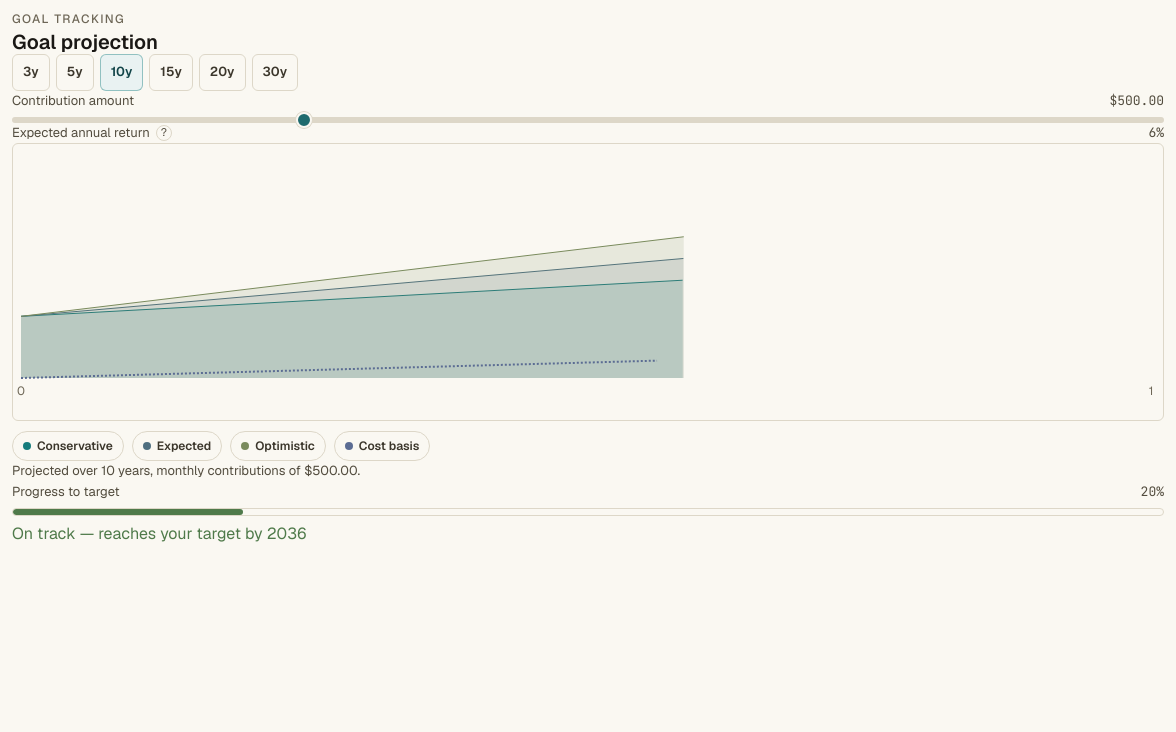
Test case: ProjectionPanel › hides the reset control until an override is active, then reverts on click
expect the picture named "Goal projection chart" is shown: met, box [12,143,1164,421]
expect the button "Reset to my profile values" is not shown: met
Step 1. Click the button "5y" → click(75, 72), box [56,54,94,90]
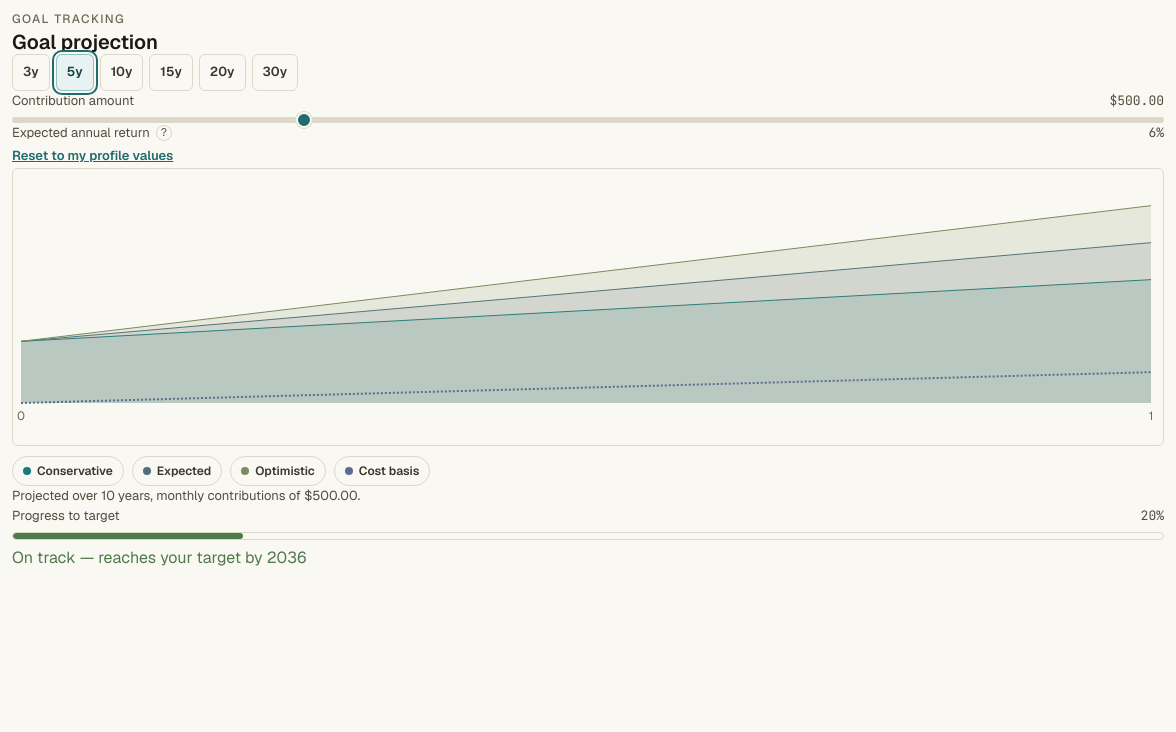
Step 2. Click the button "Reset to my profile values" → click(93, 156), box [12,146,173,166]
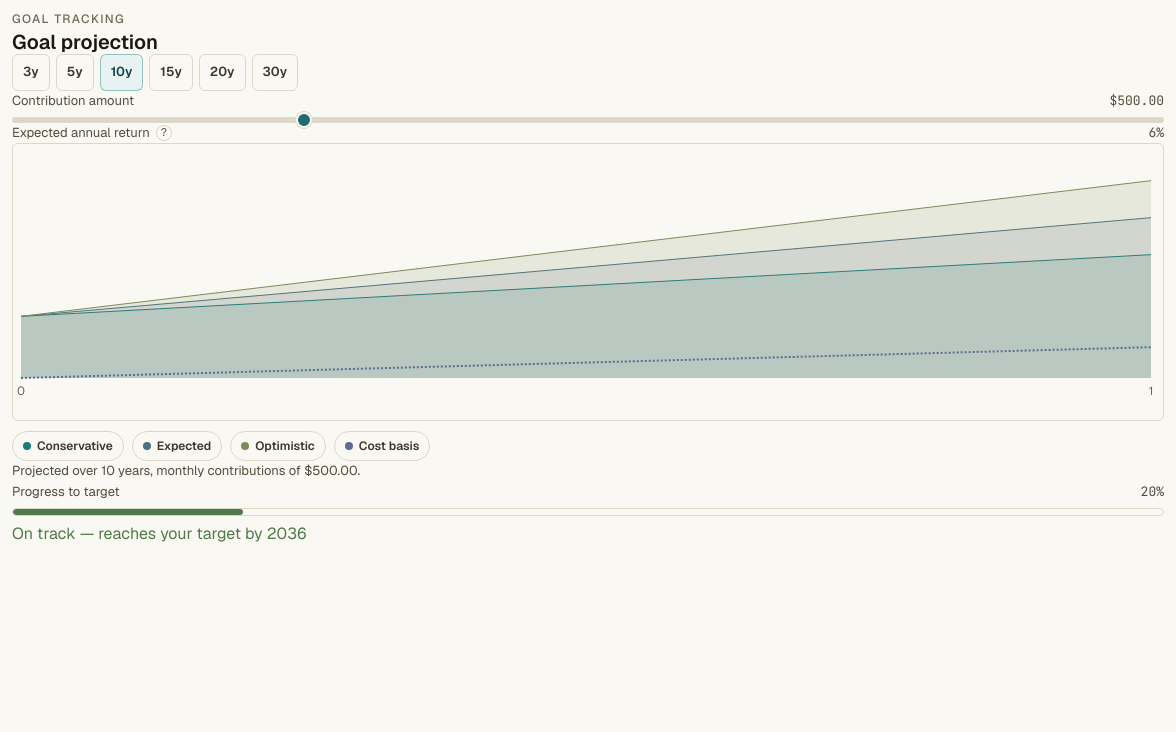
expect the button "Reset to my profile values" is gone: met
